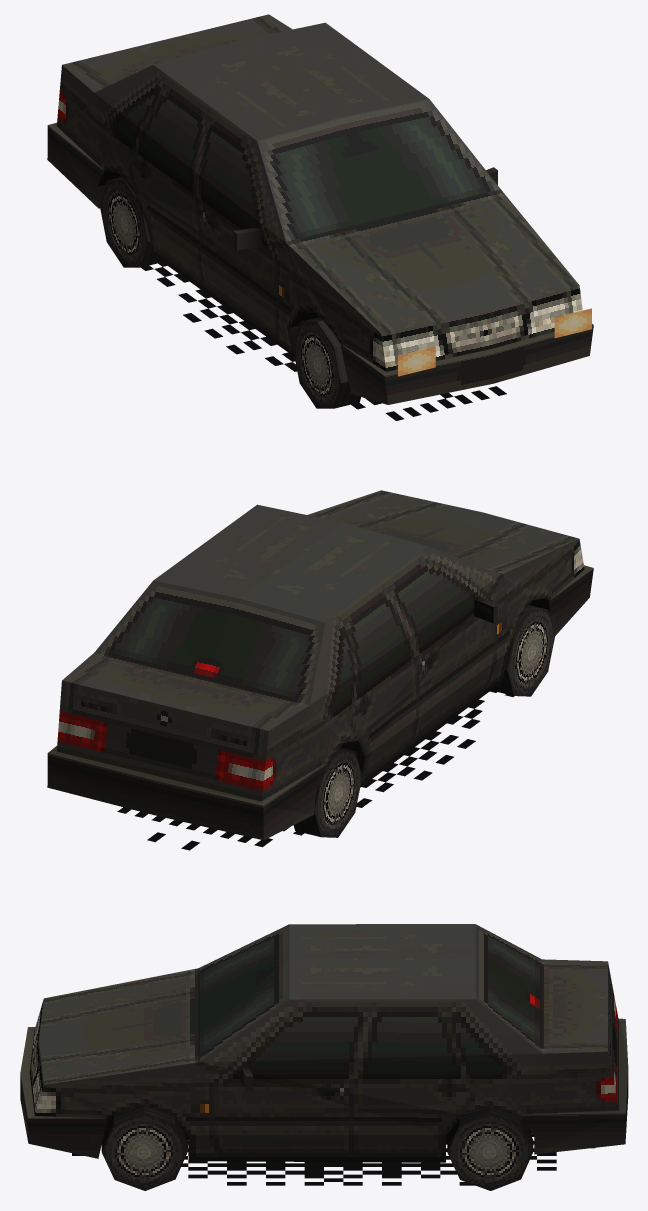
The model's file is sedan_black.glb.
3 views of the same model, one above another, from view 1: azimuth 30°, elevation 25°; view 2: azimuth 150°, elevation 25°; view 3: azimuth 270°, elevation 25° (orthographic). The views are drawn at different scales.
Visible parts, largest first — view 1: Body, BlobShadow, Headlight_1, Headlight_-1; view 2: Body, BlobShadow; view 3: Body, BlobShadow.
Boxes of the visible parts, x1,y1,x2,y2 form: Body: [47, 14, 593, 408]; BlobShadow: [141, 262, 506, 420]; Headlight_1: [554, 308, 591, 338]; Headlight_-1: [398, 346, 435, 376]; Body: [47, 490, 593, 840]; BlobShadow: [117, 690, 514, 850]; Body: [20, 924, 628, 1190]; BlobShadow: [72, 1133, 594, 1185].
Size of what is drawn, in the model's own units: 2.19 by 1.58 by 4.8.
3 materials, 3 textured.
